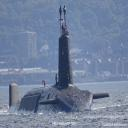submarine: (10, 1, 112, 115)
